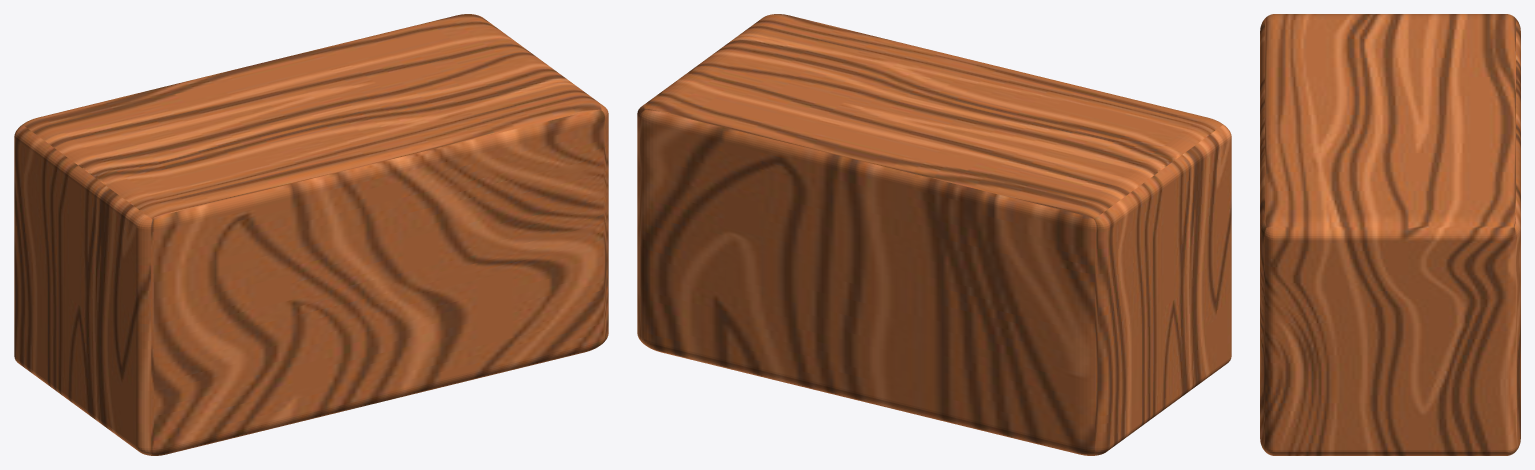
Rendered from wood_double_box.fbx.
3 renders of one model, left to right at view 1: azimuth 30°, elevation 25°; view 2: azimuth 150°, elevation 25°; view 3: azimuth 270°, elevation 25°, orthographic. The views are drawn at different scales.
Visible parts, largest first — view 1: Cube; view 2: Cube; view 3: Cube.
Part boxes in pixels (<box>): Cube: <box>14,14,608,455</box>; Cube: <box>637,14,1231,455</box>; Cube: <box>1260,14,1520,455</box>.
Size of the model in its own units: 400 by 200 by 200.
